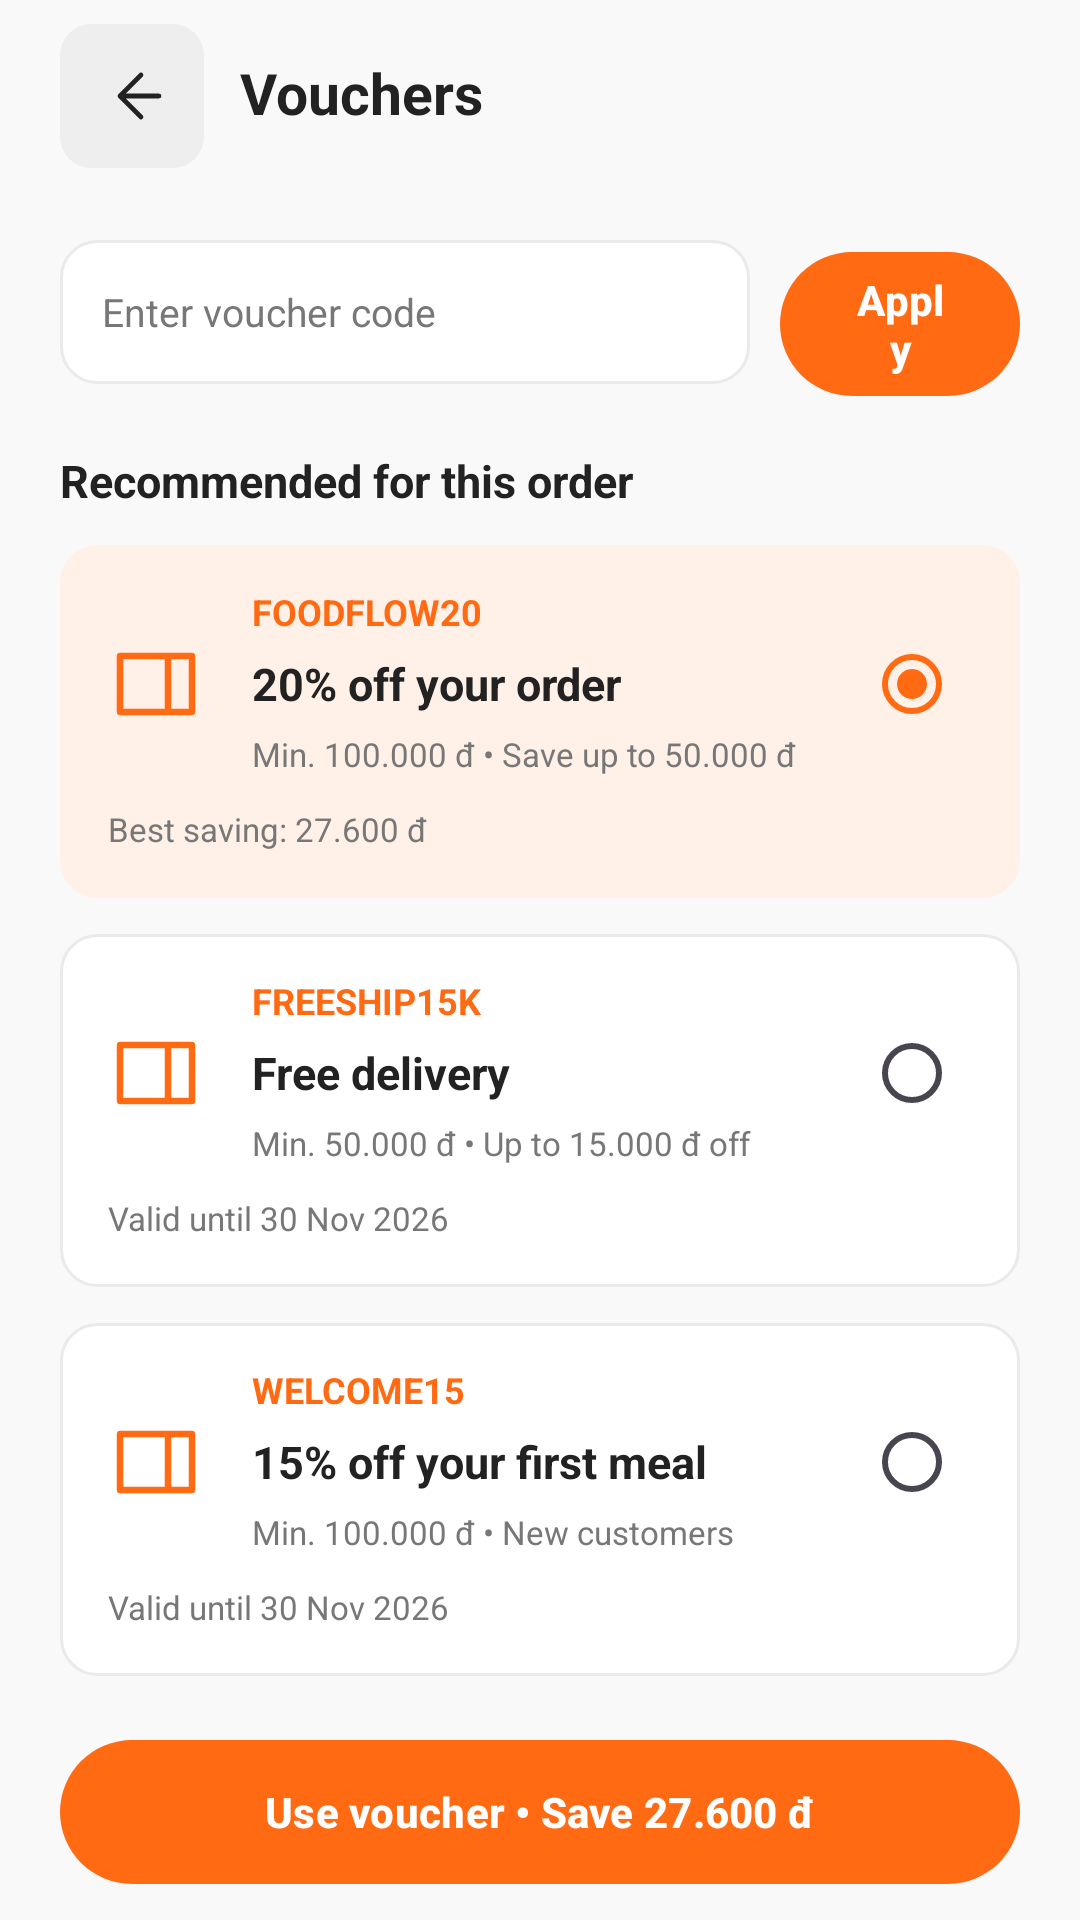

Icon click points for this 1080px×1920px phone screenshot, format [x,y]:
Back: [132,96]
